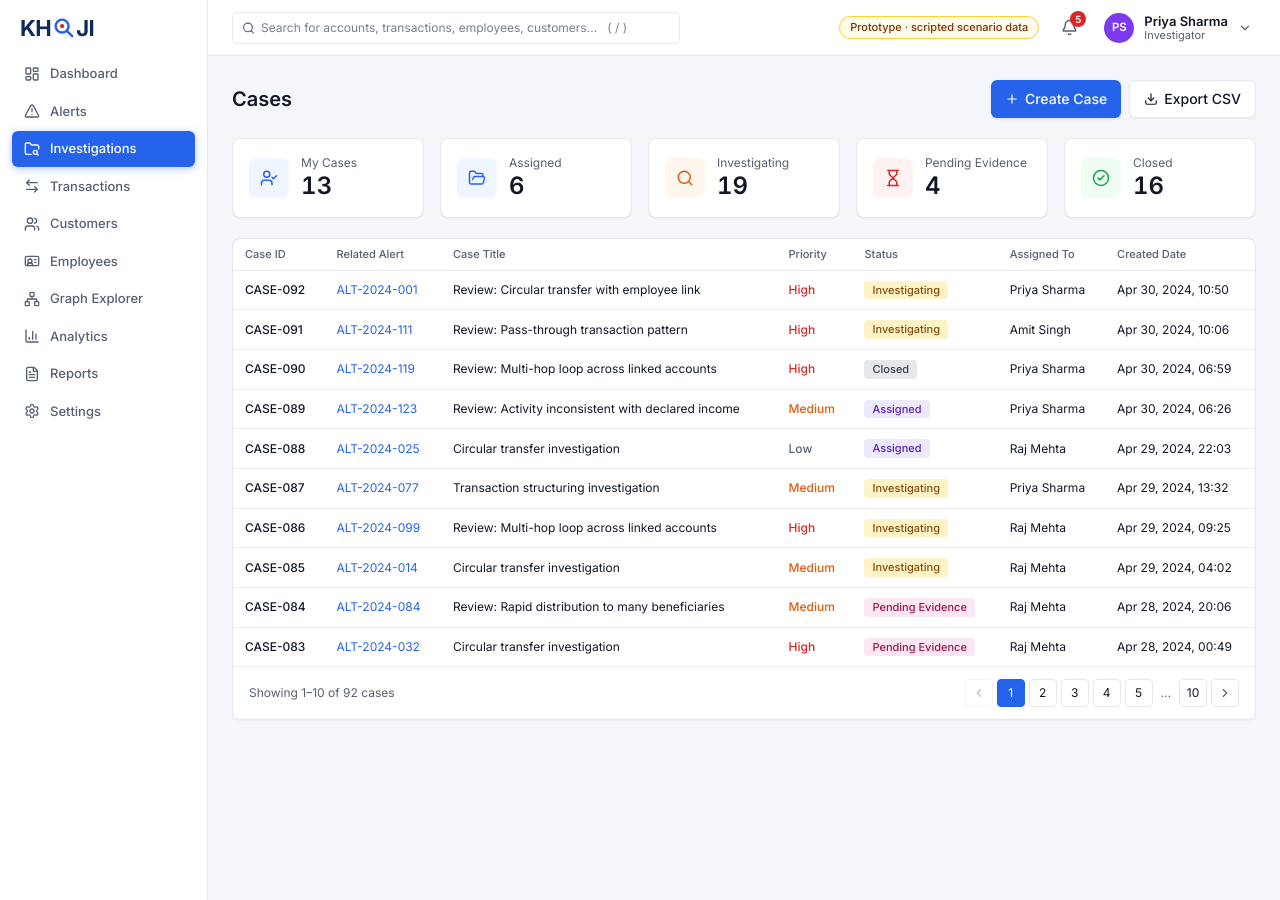
Test: Cases page › Create Case opens a case for a chosen alert
Click the button "Create Case": (1056,99) [991,80,1121,118]
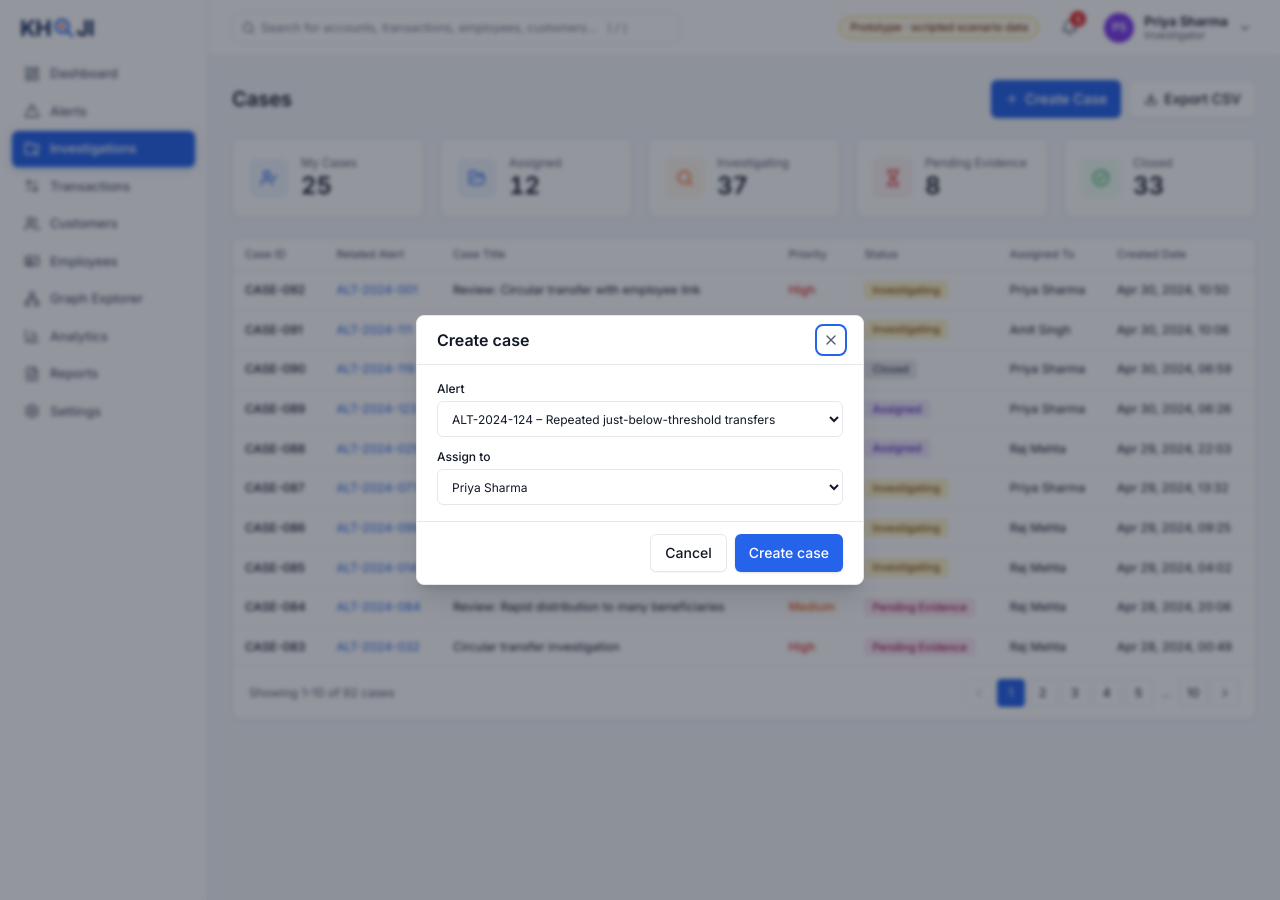
Click the button "Create case": (789,553) [735,534,843,572]
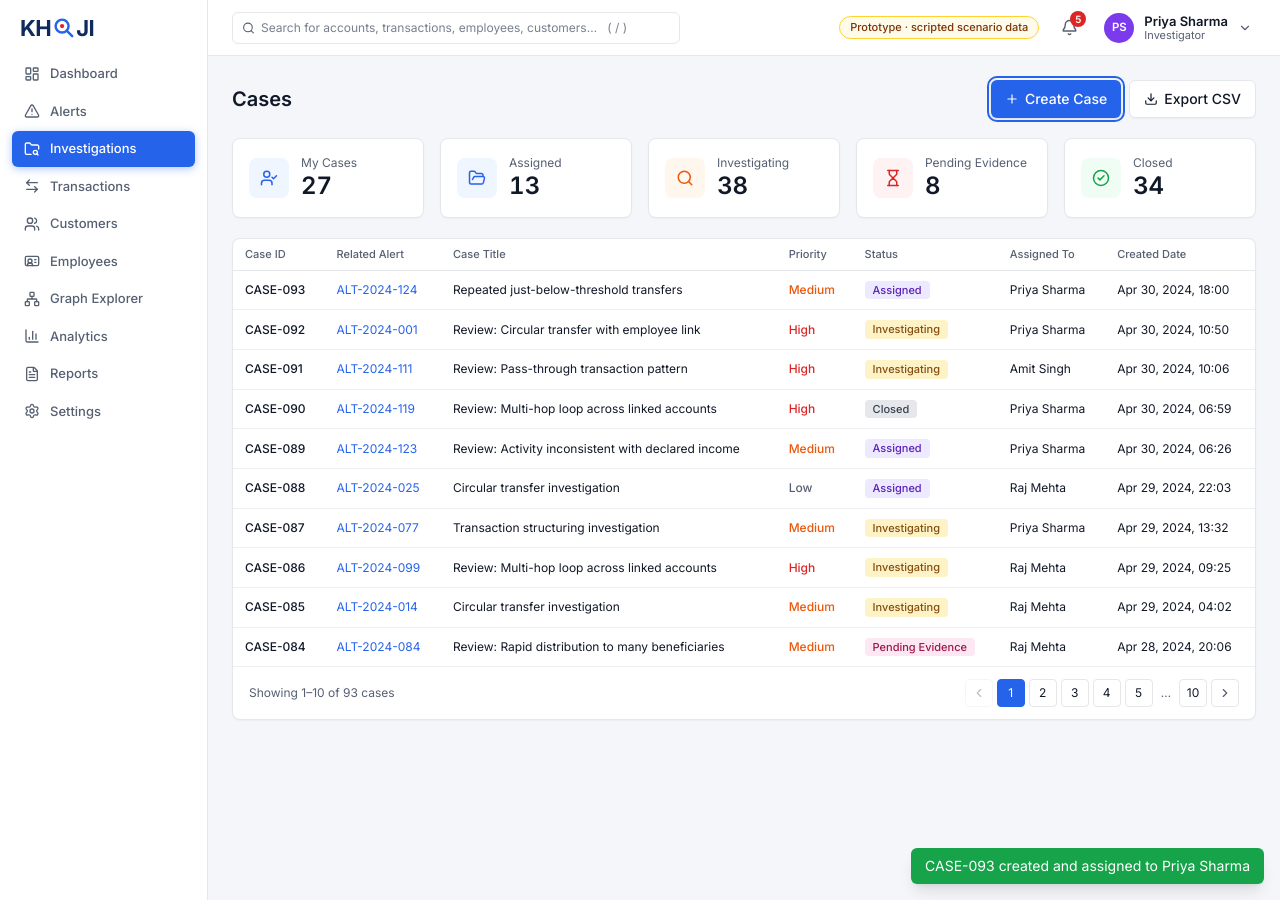
Result: the text with test id "cases-showing" shows "of 93 cases" at [249,685,395,700]
